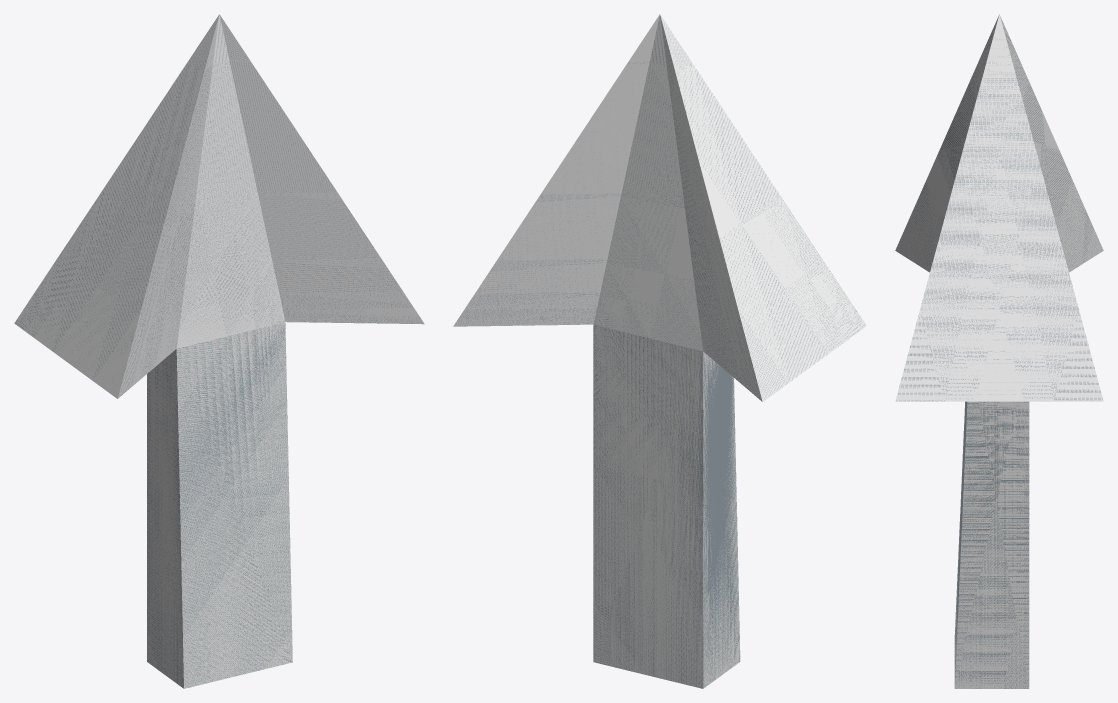
Rendered from Arrow.fbx.
The picture shows the model from 3 angles, left to right: view 1: azimuth 30°, elevation 25°; view 2: azimuth 150°, elevation 25°; view 3: azimuth 270°, elevation 25°; orthographic projection.
Visible parts, largest first — view 1: Model; view 2: Model; view 3: Model.
Boxes of the visible parts, left/top/right/bottom form: Model: left=14, top=14, right=424, bottom=688; Model: left=453, top=14, right=866, bottom=688; Model: left=895, top=14, right=1103, bottom=688.
Size of the model in its own units: 0.48 by 0.9626 by 0.28.
